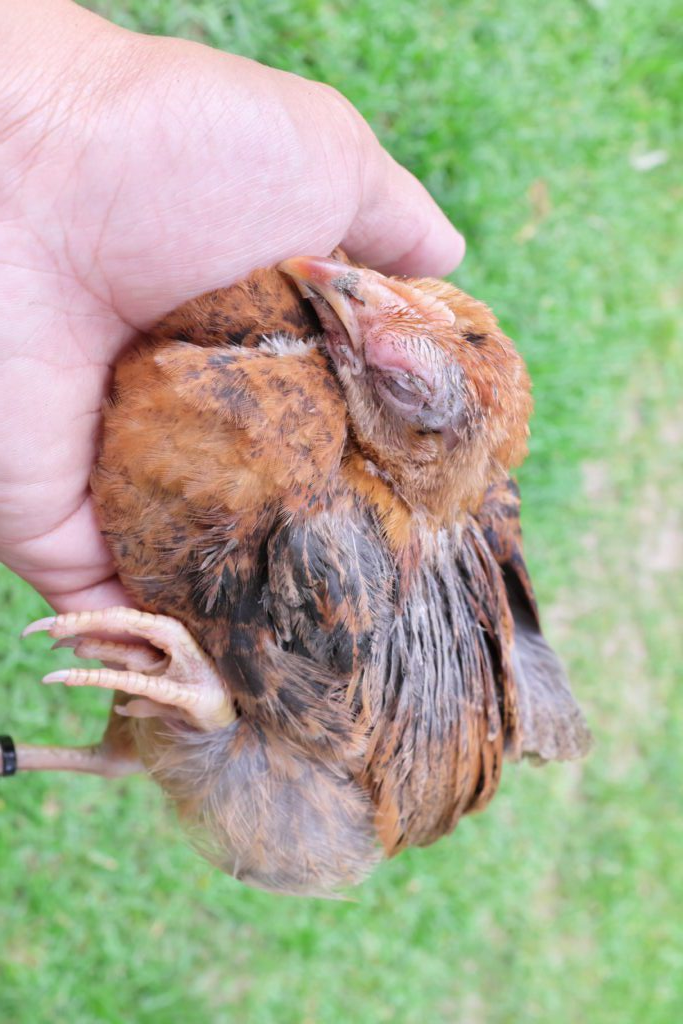Unhealthy: (58, 212, 592, 831)
